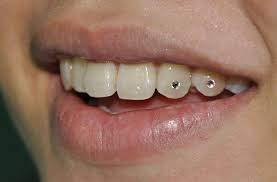decay: (155, 62, 190, 100), (190, 65, 224, 98)
normal: (117, 60, 155, 101), (84, 61, 116, 97), (73, 59, 86, 93), (225, 75, 249, 92), (60, 59, 72, 89)
